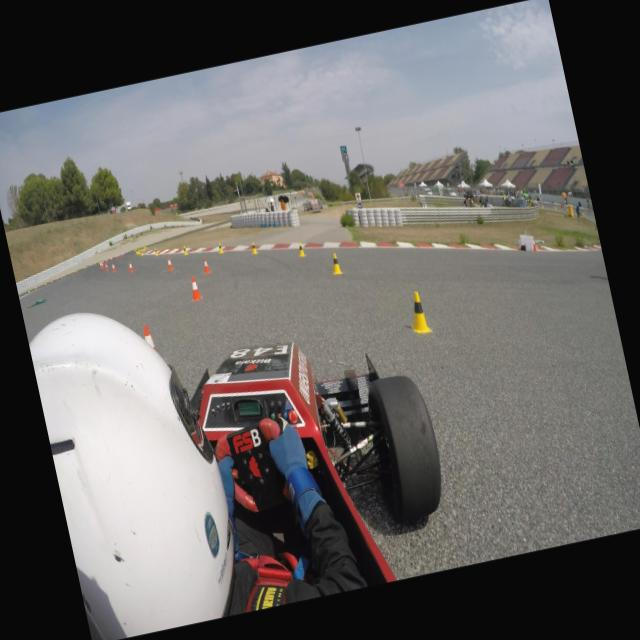orange_cone: (186, 275, 202, 301), (142, 324, 156, 352), (200, 256, 211, 274), (165, 256, 174, 270), (529, 238, 537, 252), (128, 260, 134, 273), (110, 262, 117, 272), (104, 261, 109, 271), (100, 261, 104, 268), (34, 284, 38, 290), (98, 260, 102, 266), (100, 259, 104, 265), (56, 276, 59, 282), (104, 258, 108, 262), (115, 254, 118, 258), (110, 256, 112, 260)
yellow_cone: (403, 290, 432, 336), (328, 251, 342, 275), (296, 240, 306, 258), (249, 240, 258, 254), (216, 242, 224, 254), (182, 245, 188, 255), (153, 247, 159, 256), (140, 248, 144, 256), (135, 248, 140, 254), (34, 285, 38, 290), (49, 277, 52, 282), (27, 287, 30, 292), (44, 280, 46, 285)
